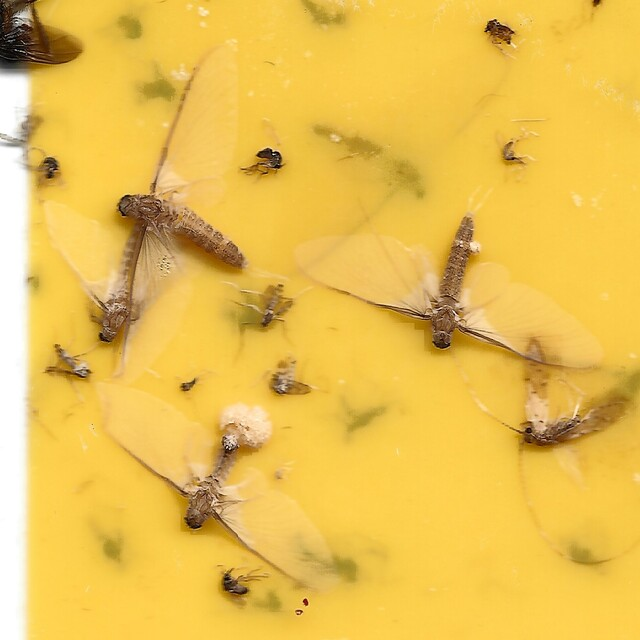Brachycera: (243, 148, 284, 180), (220, 566, 251, 599), (37, 155, 62, 184)
Ephemeroptera: (98, 381, 333, 593), (292, 211, 603, 370), (116, 41, 250, 372), (44, 199, 196, 344)
Nematocera: (44, 340, 93, 384), (271, 358, 311, 397), (258, 283, 288, 333)
